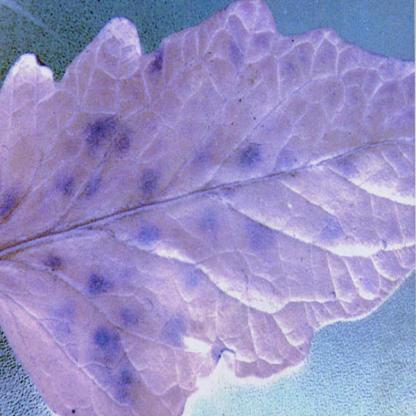Tomato mold leaf: (1, 4, 412, 415)
